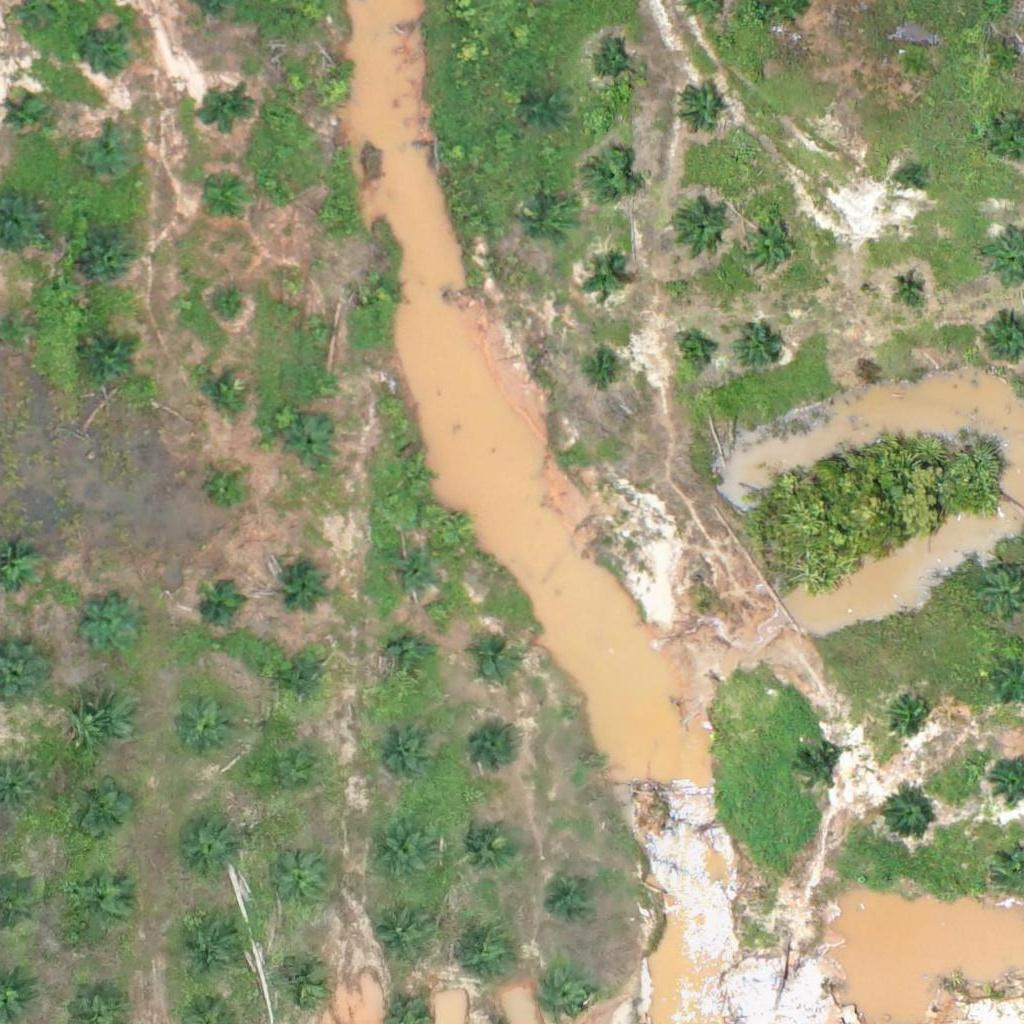Kelapa_Sawit: (257, 749, 320, 812), (372, 725, 435, 788), (79, 125, 142, 188), (370, 822, 433, 885), (67, 867, 130, 930), (457, 918, 520, 981), (371, 903, 434, 966), (737, 214, 800, 277), (68, 781, 130, 844), (179, 696, 241, 759), (78, 594, 140, 657), (181, 913, 243, 976), (178, 817, 240, 880), (267, 855, 329, 918), (272, 953, 334, 1016), (457, 813, 519, 876), (74, 694, 136, 757), (671, 196, 733, 259), (86, 232, 136, 283), (85, 335, 135, 386), (196, 367, 246, 418), (87, 23, 137, 73), (473, 724, 523, 774), (280, 555, 330, 605), (198, 580, 248, 630), (387, 550, 437, 600), (286, 419, 336, 469), (383, 635, 433, 685), (469, 634, 519, 684), (882, 792, 932, 842), (551, 870, 601, 920), (885, 688, 935, 738), (794, 744, 844, 794), (277, 659, 327, 709), (588, 44, 638, 94), (586, 153, 636, 203), (675, 86, 725, 136), (735, 322, 785, 372), (200, 87, 250, 137), (198, 177, 248, 227), (524, 203, 574, 253), (395, 457, 433, 495), (207, 468, 245, 506), (585, 258, 623, 296), (586, 349, 624, 387), (673, 332, 711, 370), (299, 309, 337, 347), (309, 196, 347, 234), (315, 71, 353, 109), (892, 269, 929, 307), (363, 271, 400, 309), (896, 45, 934, 82), (526, 91, 563, 129), (209, 290, 246, 327), (7, 98, 44, 135), (898, 166, 923, 191)
